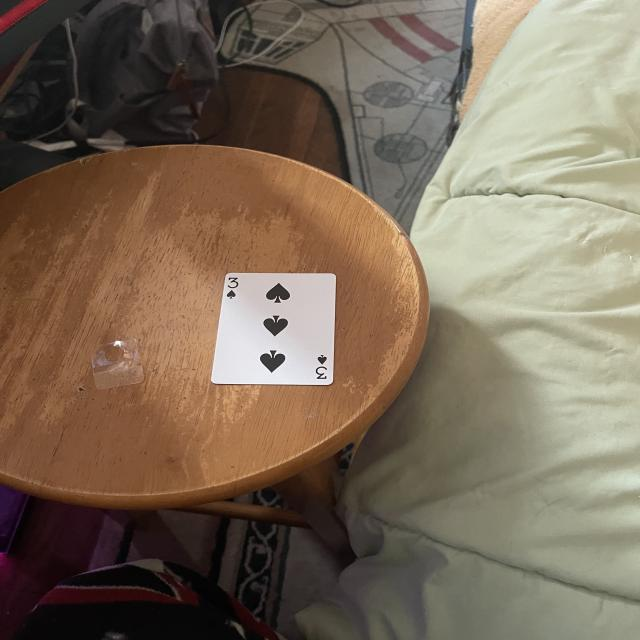3 of spades: (211, 271, 338, 387)
